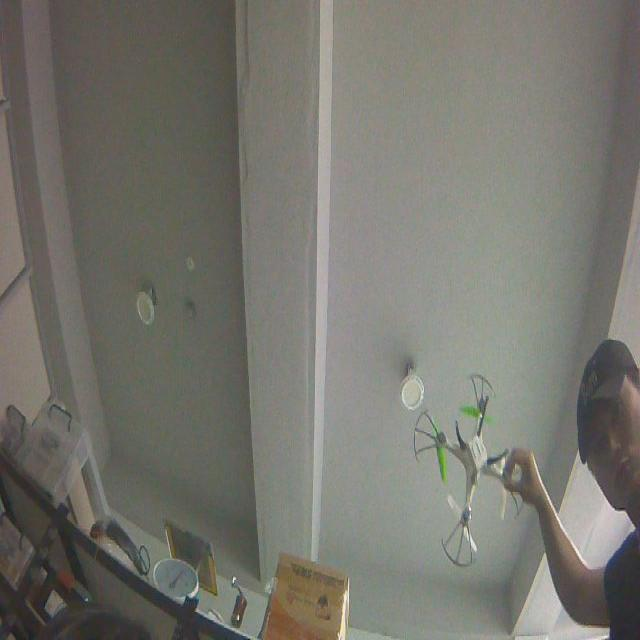drone: (412, 370, 528, 569)
